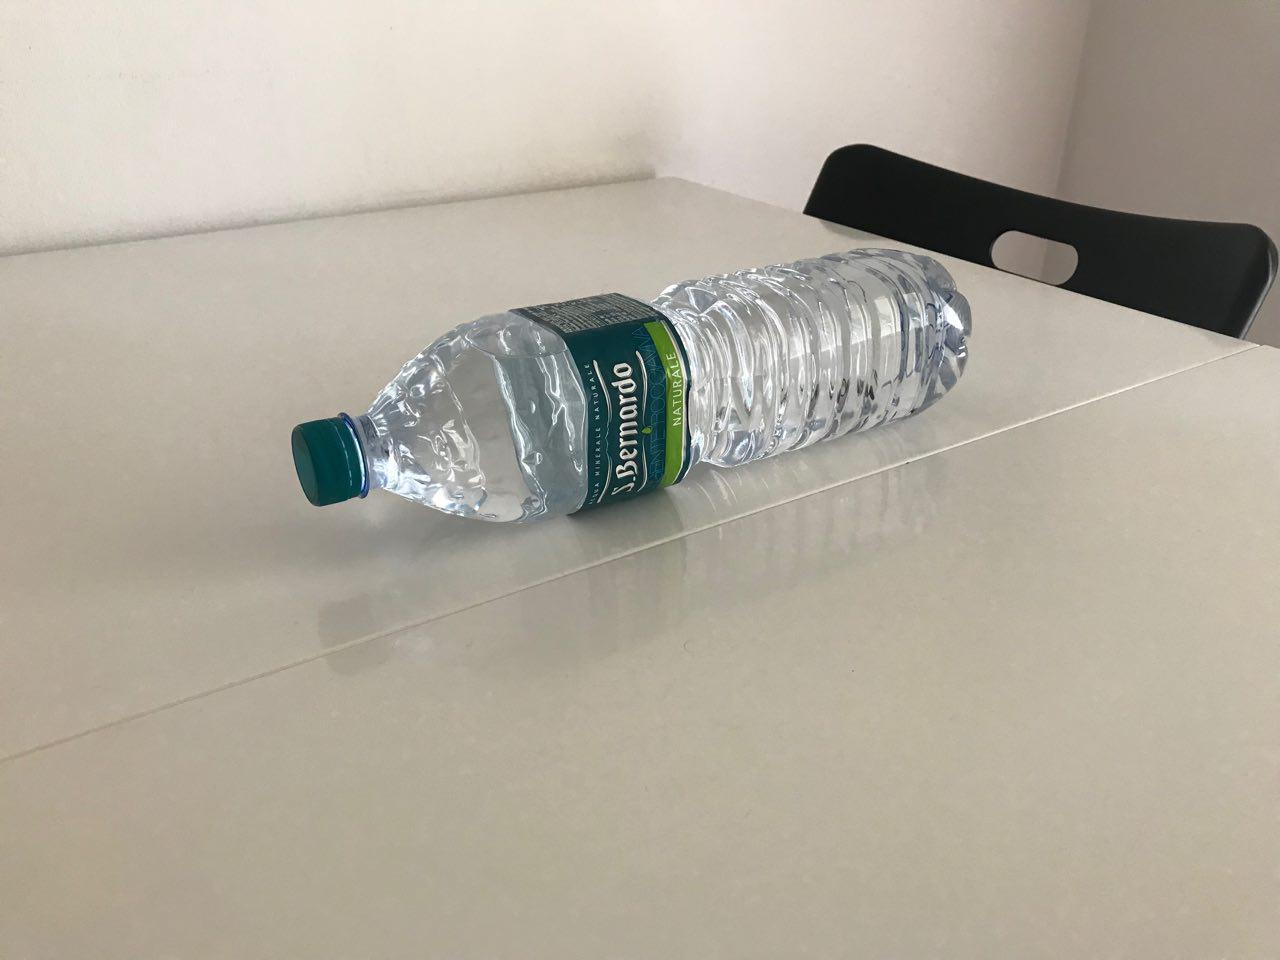san_bernardo: (289, 246, 974, 526)
